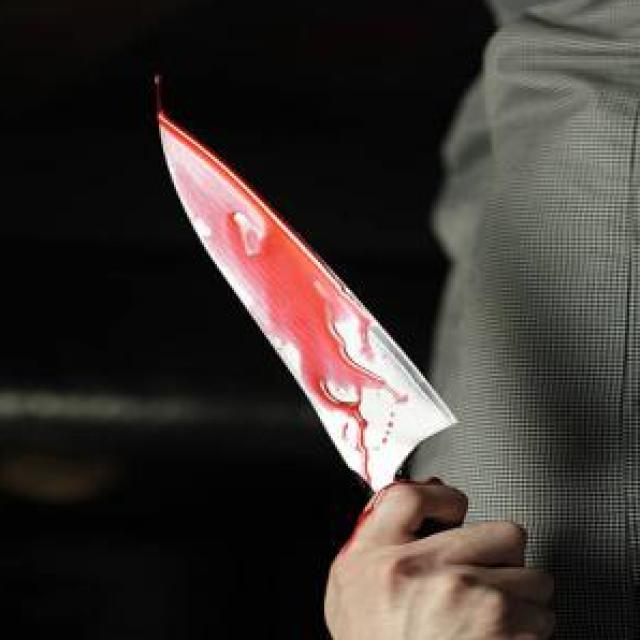knife: (154, 115, 466, 500)
